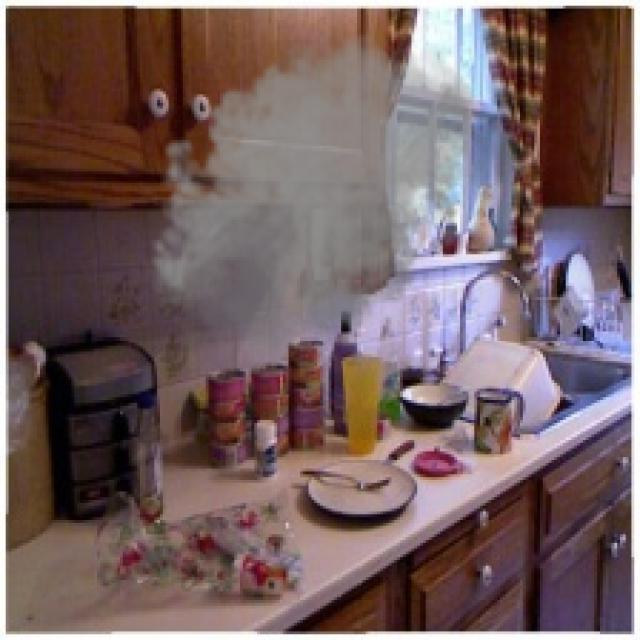Smoke: (140, 22, 483, 378)
